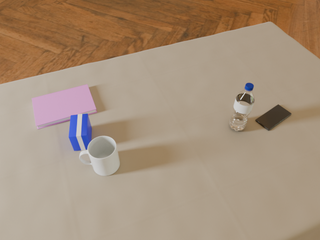book: (32, 84, 97, 129)
bottle: (229, 83, 255, 131)
box: (69, 113, 92, 151)
cup: (80, 136, 120, 176)
phone: (256, 105, 291, 130)
